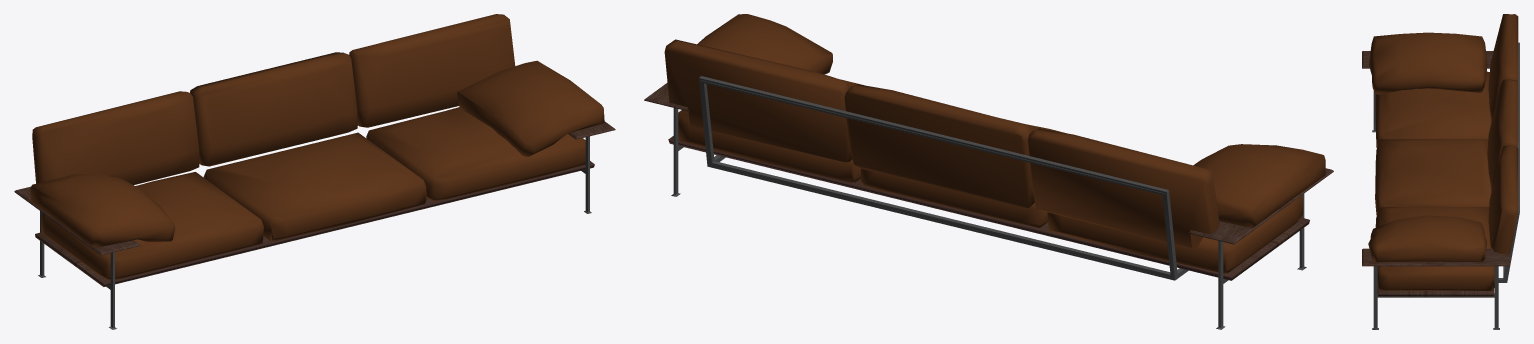
File: sofa-luxury.lod0.glb
3 renders of one model, left to right at view 1: azimuth 30°, elevation 25°; view 2: azimuth 150°, elevation 25°; view 3: azimuth 270°, elevation 25°, orthographic. The views are drawn at different scales.
Visible parts, largest first — view 1: Object_2; view 2: Object_2; view 3: Object_2.
Part boxes in pixels (x1=…): Object_2: x1=14, y1=14, x2=615, y2=329; Object_2: x1=644, y1=14, x2=1333, y2=329; Object_2: x1=1362, y1=14, x2=1519, y2=329.
Bounding box in the file's own units: 2.6 × 0.6817 × 0.8041.
1 material, 1 textured.
